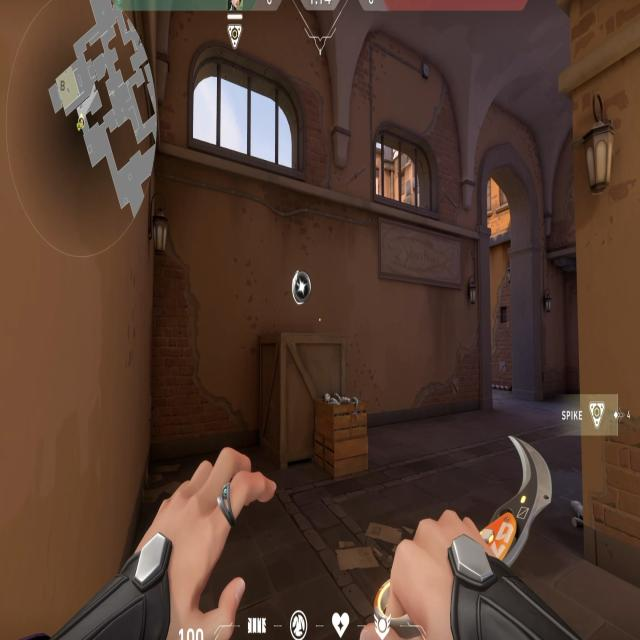B_Main_Wallbang: (256, 262, 370, 479)
Throwables: (187, 38, 309, 183), (370, 109, 444, 221)
